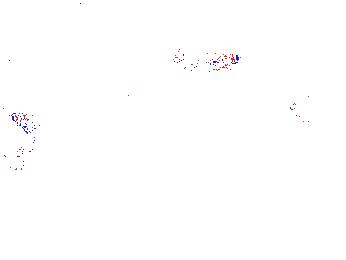X-ray fish: (64, 1, 120, 18)
glassfish: (16, 110, 45, 170)
red belly glassfish: (180, 51, 240, 72)
redtail glassfish: (171, 45, 232, 71), (297, 82, 346, 105), (285, 99, 314, 133)
